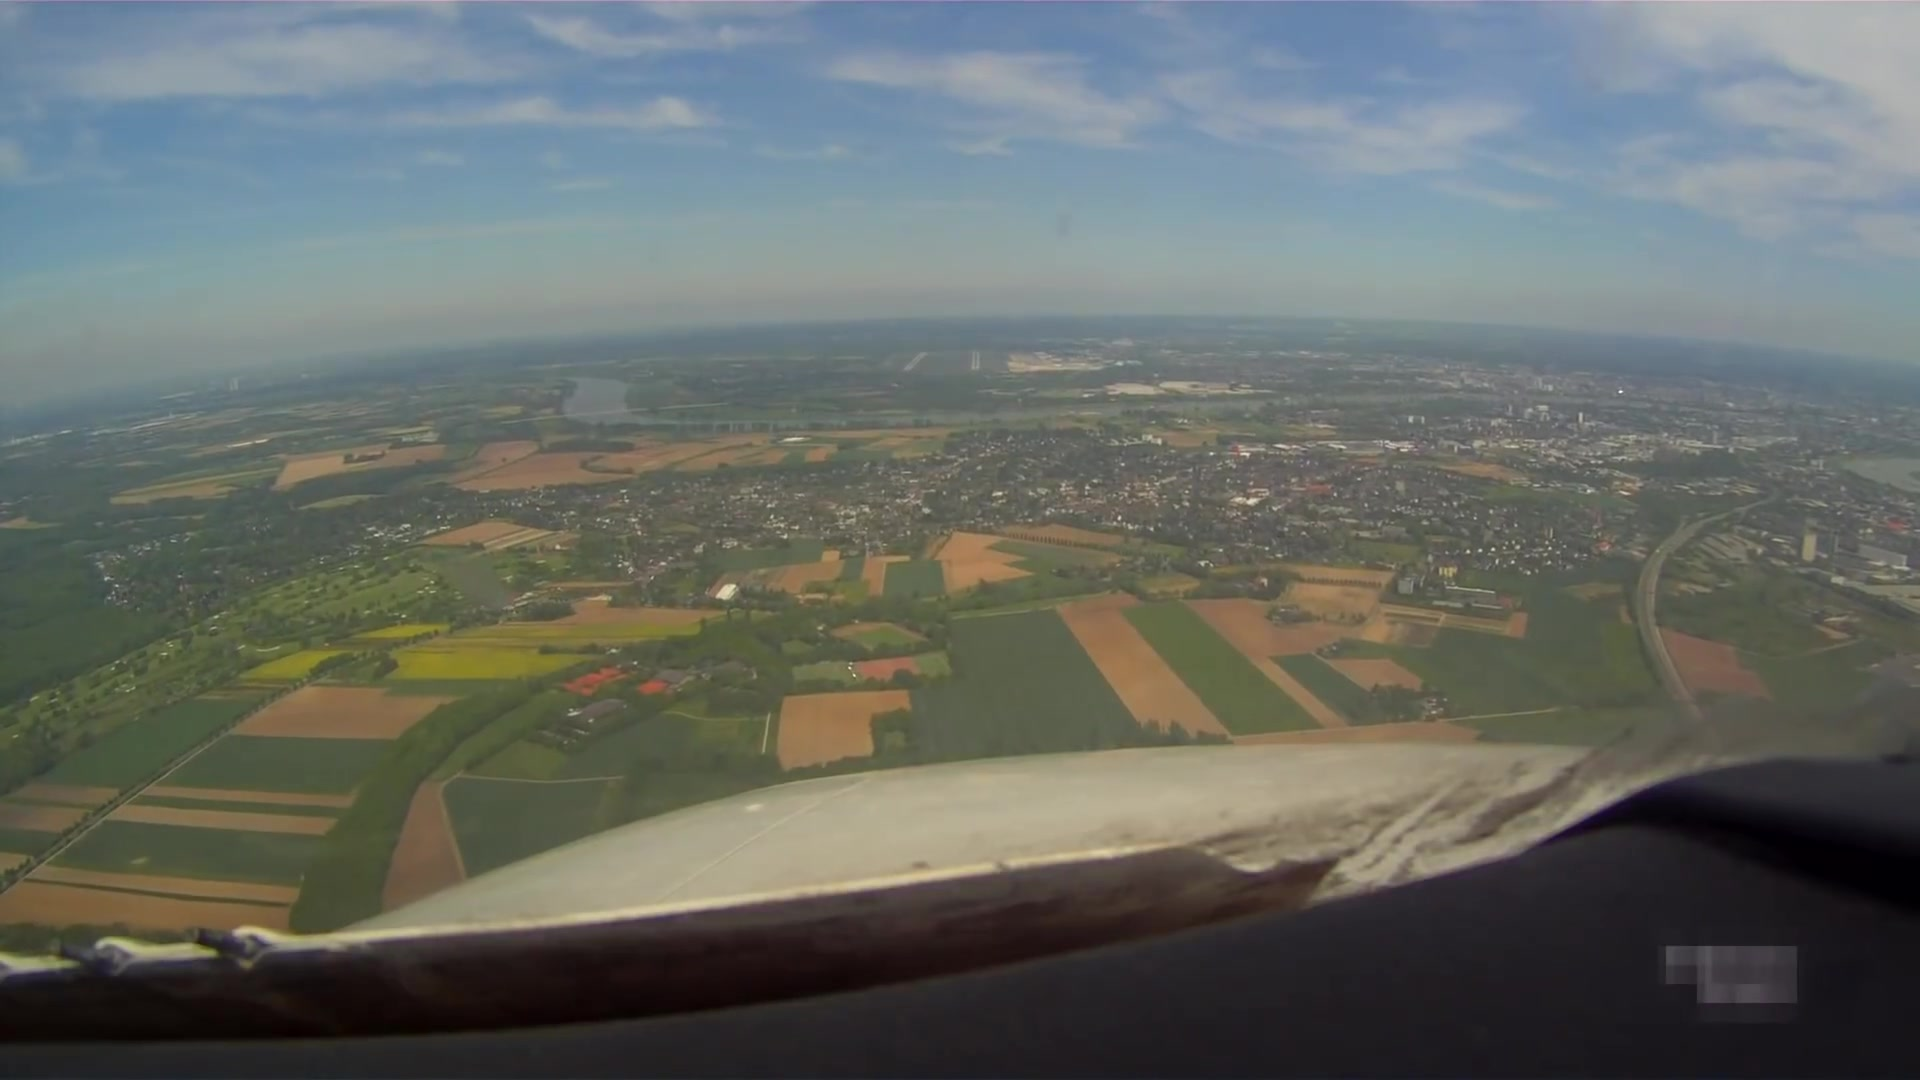runway: (899, 351, 928, 372), (969, 349, 982, 372)
